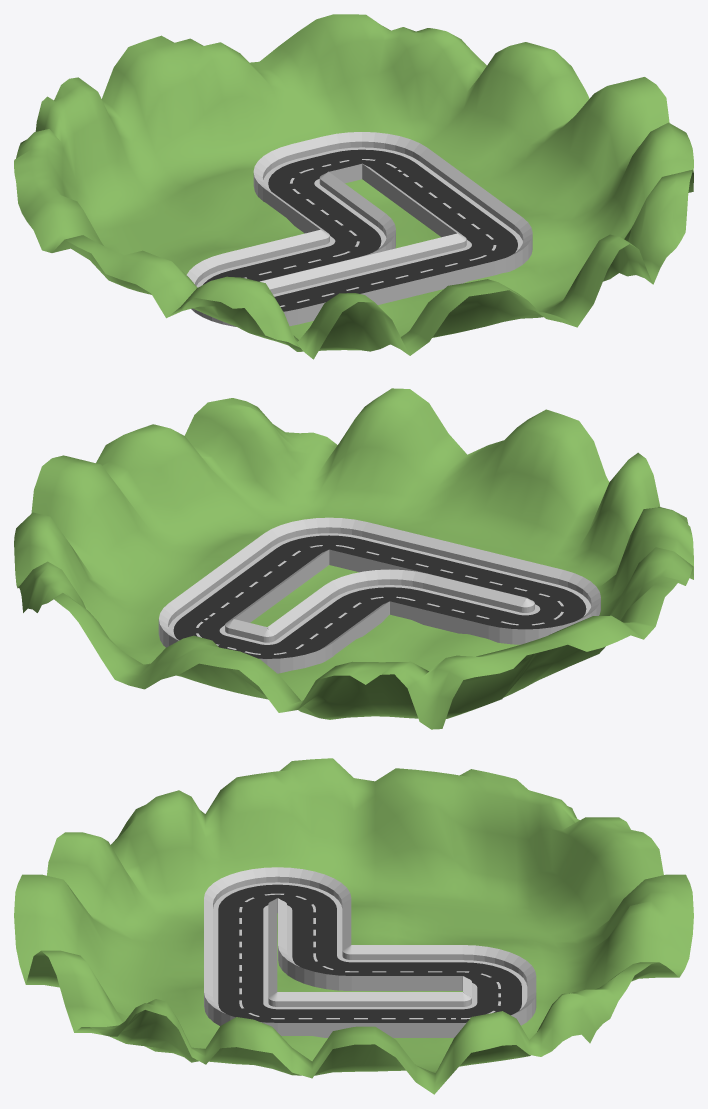
File: Roads.fbx
3 renders of one model, top to bottom at view 1: azimuth 30°, elevation 25°; view 2: azimuth 150°, elevation 25°; view 3: azimuth 270°, elevation 25°, orthographic. The views are drawn at different scales.
Visible parts, largest first — view 1: Plane, Cube.017; view 2: Plane, Cube.017; view 3: Plane, Cube.017.
Part boxes in pixels (x1,y1,x2,y2): Plane: (14, 14, 693, 359); Cube.017: (186, 132, 532, 326); Plane: (14, 388, 693, 729); Cube.017: (158, 517, 600, 673); Plane: (14, 758, 693, 1094); Cube.017: (204, 867, 536, 1037).
Bounding box in the file's own units: 2941 × 400 × 2941.
